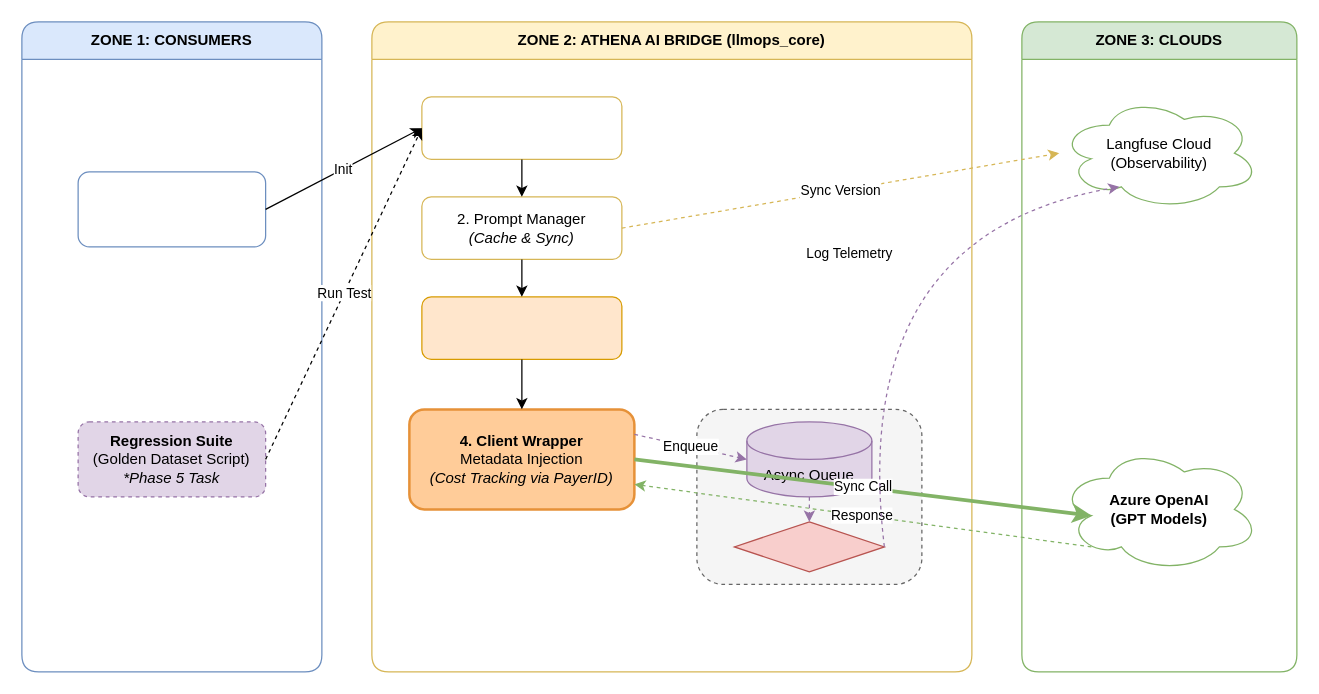
Some shapes in this 1319 by 694 pixel diagram are drawn without their labels. The centre of each missing label's shape, as x and y in pixels:
1. Config Loader (Env & Secrets): the point at 521,127
3. PII Sanitizer (Regex Engine): the point at 521,327
Circuit Breaker: the point at 808,546
Payer Knowledge App (Runtime Traffic): the point at 171,209
